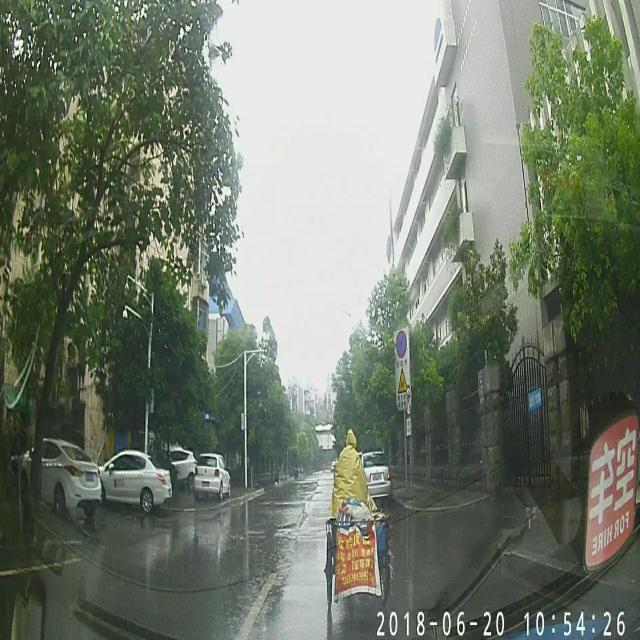car: (16, 434, 100, 514), (98, 450, 172, 514), (192, 451, 231, 503), (356, 450, 392, 504), (165, 446, 198, 492)
